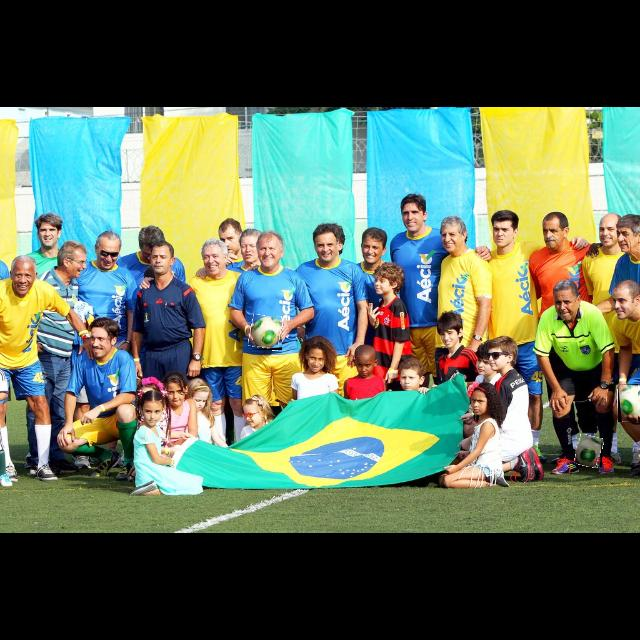Football: (250, 316, 282, 350), (576, 435, 602, 467), (618, 384, 638, 422)
